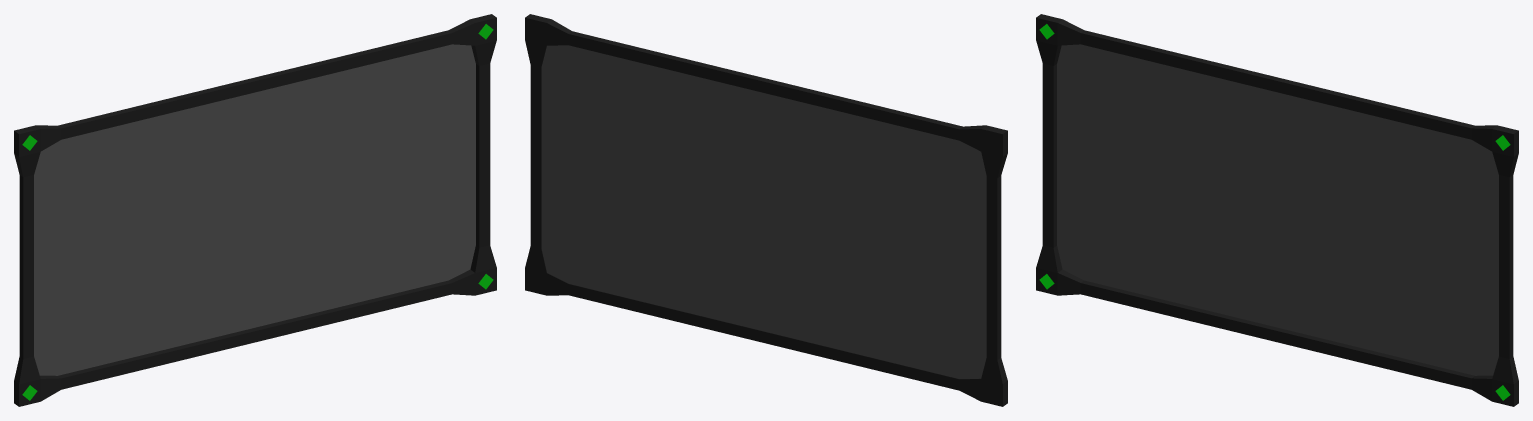
Rendered from display-frame-wide.glb.
3 renders of one model, left to right at view 1: azimuth 30°, elevation 25°; view 2: azimuth 150°, elevation 25°; view 3: azimuth 330°, elevation 25°, orthographic.
Visible parts, largest first — view 1: Cube.001; view 2: Cube.001; view 3: Cube.001.
Boxes of the visible parts, <box> form: Cube.001: <box>14,14,496,406</box>; Cube.001: <box>525,14,1007,406</box>; Cube.001: <box>1036,14,1518,406</box>.
Bounding box in the file's own units: 2.2 × 1.2 × 0.04.
Materials: 1 (1 with a texture image).
